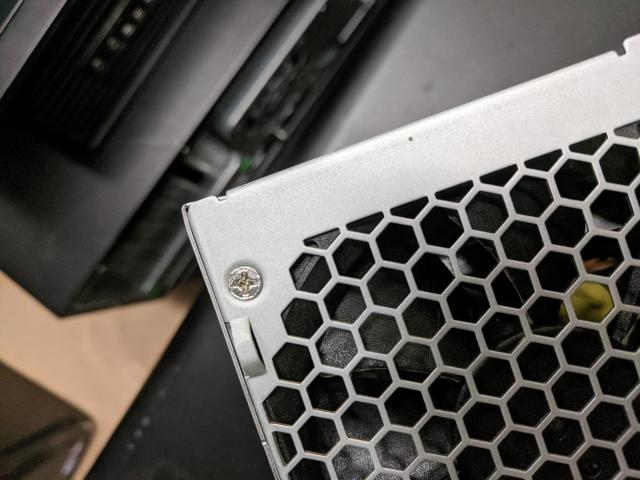CRS: (226, 261, 262, 300)
